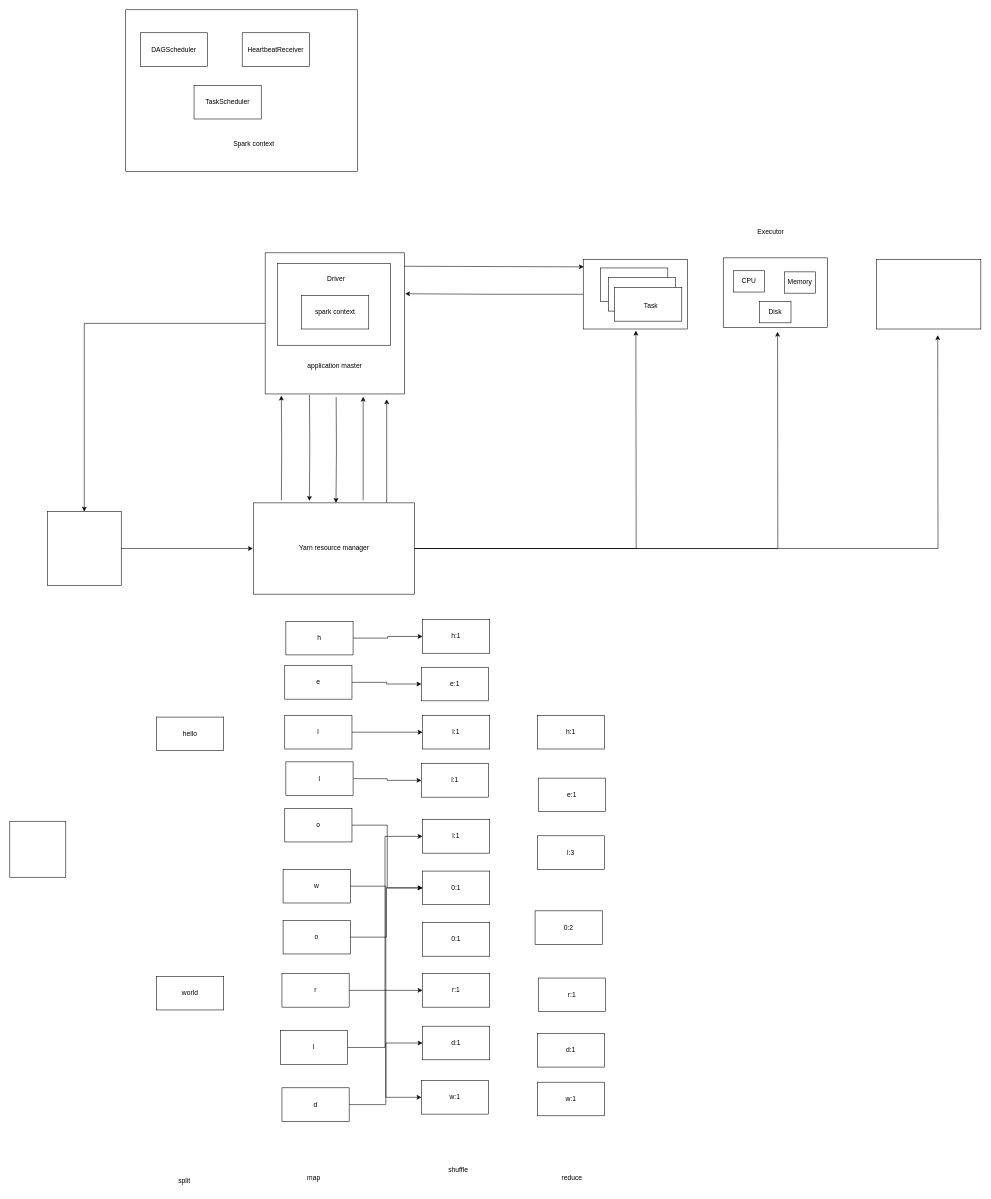
The diagram is 991 pixels wide and 1199 high, and some of its shapes have lost their labels. The shapes that lost their labels are listed below. From the top down, each one's centre as x and y in pixels, then its label:
the point at 84,548: client
the point at 37,849: hello world
